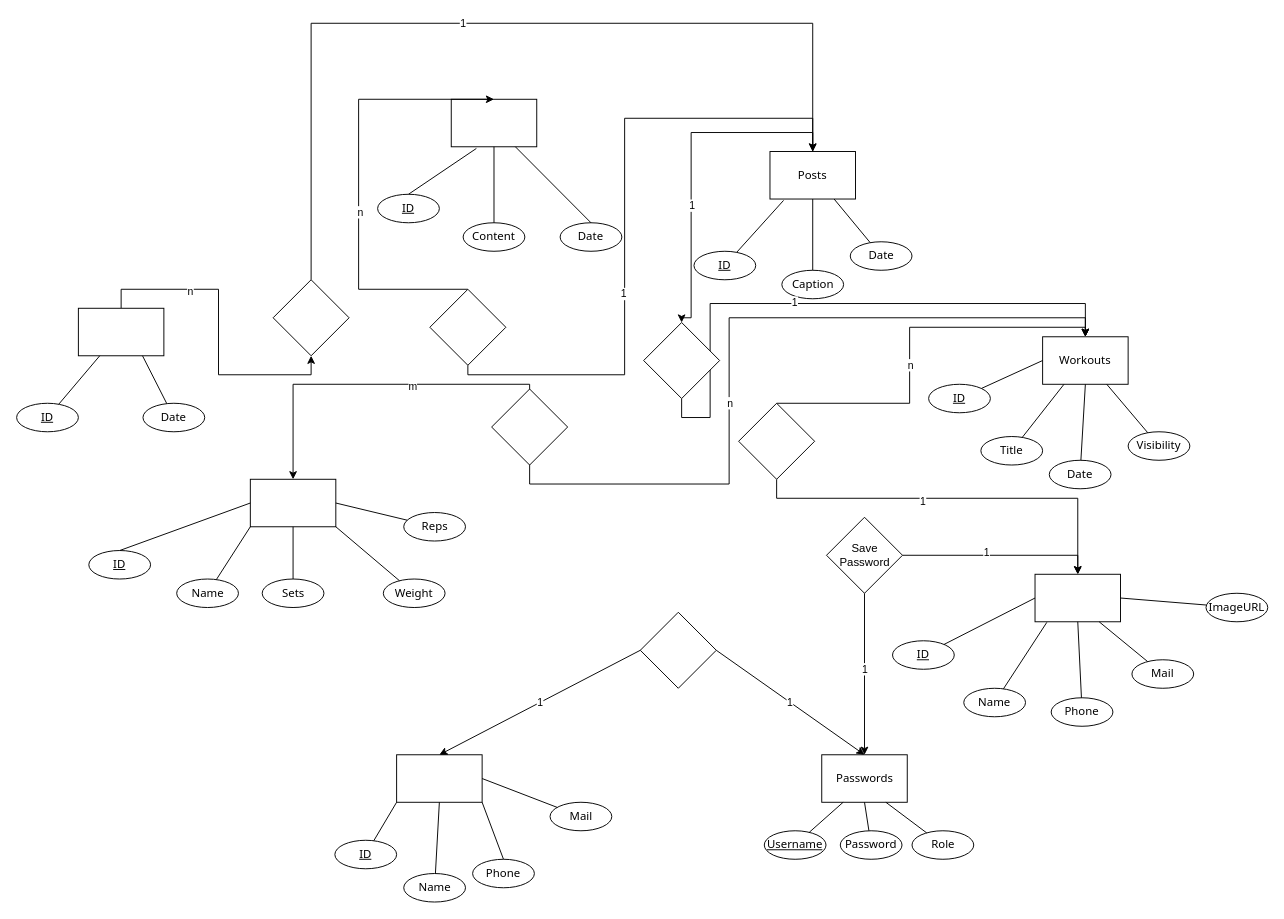
Some shapes in this 1284 by 919 pixel diagram are drawn without their labels. The shapes that lost their labels are listed below. From the top down, each one's centre as x and y in pixels, then its label:
the point at 493,122: Comments
the point at 120,331: Likes
the point at 310,317: Like Post
the point at 467,326: Send Comment
the point at 681,360: Send Post
the point at 529,426: Save Exercises
the point at 776,440: Save Workout
the point at 292,502: Exercises
the point at 1077,597: Users
the point at 677,649: Login
the point at 439,778: Admins
